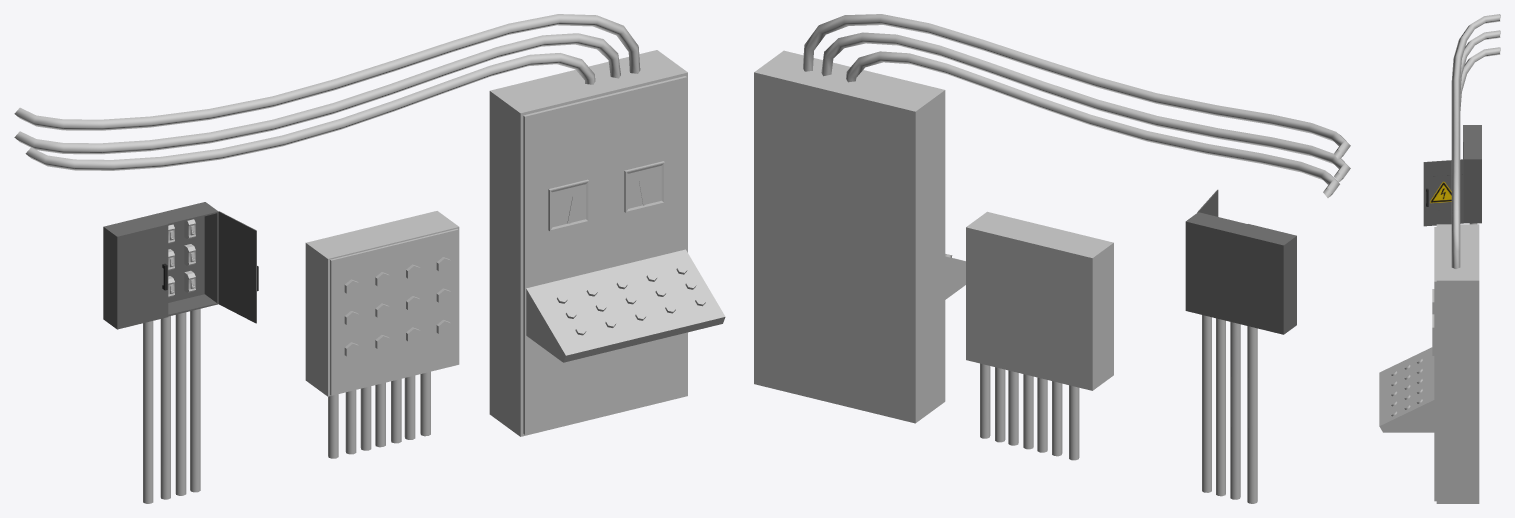
The model's file is Electric.fbx.
The picture shows the model from 3 angles, left to right: view 1: azimuth 30°, elevation 25°; view 2: azimuth 150°, elevation 25°; view 3: azimuth 270°, elevation 25°; orthographic projection. The views are drawn at different scales.
Visible parts, largest first — view 1: Cube.001, Cube.005, NurbsPath.002, Cylinder.011, ElectricBox, ElectricBoxL, ElectricBoxR; view 2: Cube.001, Cube.005, NurbsPath.002, ElectricBox, Cylinder.011; view 3: Cube.001, NurbsPath.002, ElectricBoxR, ElectricBox.
Part boxes in pixels (<box>): Cube.001: <box>489,50,725,436</box>; Cube.005: <box>305,211,459,458</box>; NurbsPath.002: <box>14,14,640,170</box>; Cylinder.011: <box>143,309,200,503</box>; ElectricBox: <box>103,202,218,328</box>; ElectricBoxL: <box>116,224,168,329</box>; ElectricBoxR: <box>218,211,258,323</box>; Cube.001: <box>754,50,965,423</box>; Cube.005: <box>966,211,1113,460</box>; NurbsPath.002: <box>803,14,1350,197</box>; ElectricBox: <box>1185,212,1296,334</box>; Cylinder.011: <box>1202,315,1257,503</box>; Cube.001: <box>1379,224,1479,503</box>; NurbsPath.002: <box>1451,14,1500,268</box>; ElectricBoxR: <box>1423,159,1463,226</box>; ElectricBox: <box>1463,125,1481,223</box>.
Size of the model in its own units: 3.54 by 0.8584 by 2.19.
